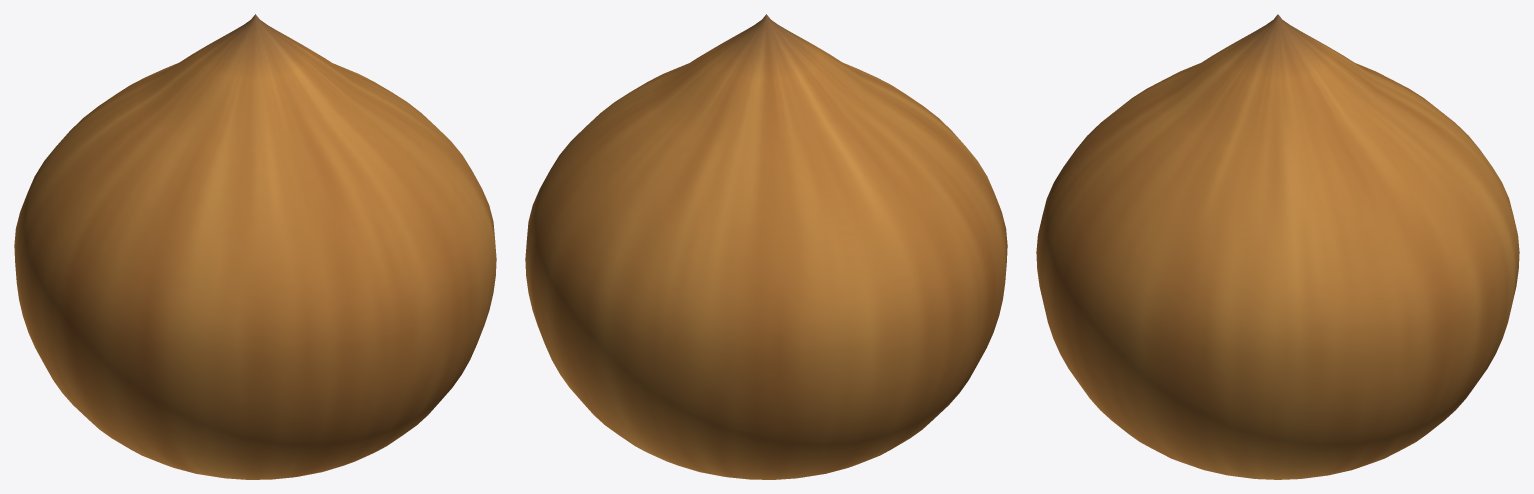
3 views of the same model, side by side, from view 1: azimuth 30°, elevation 25°; view 2: azimuth 150°, elevation 25°; view 3: azimuth 270°, elevation 25° (orthographic).
Parts seen in each view (by area): view 1: Onion, brown; view 2: Onion, brown; view 3: Onion, brown.
Boxes of the visible parts, box(x1,y1,x2,y2) form: Onion, brown: box(14, 14, 496, 479); Onion, brown: box(525, 14, 1007, 479); Onion, brown: box(1036, 14, 1519, 479).
Size of the model in its own units: 0.08 by 0.0795 by 0.08.
1 material, 1 textured.
